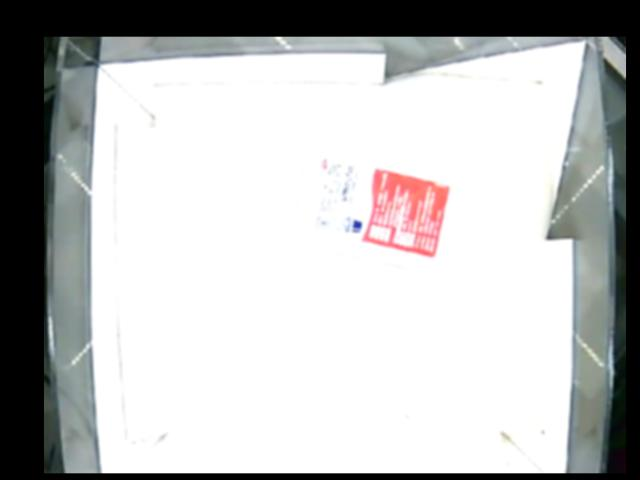Medicine: (294, 141, 470, 275)
